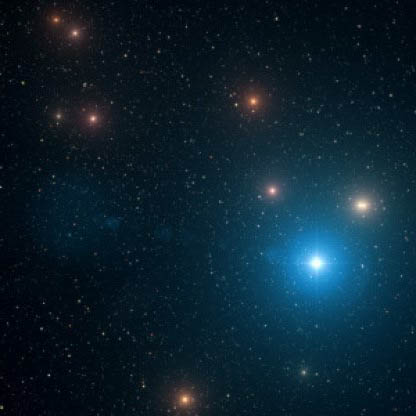Lyra: (280, 232, 340, 293), (235, 84, 267, 118), (346, 184, 374, 222), (61, 17, 96, 47), (78, 102, 104, 131), (257, 176, 288, 200)
